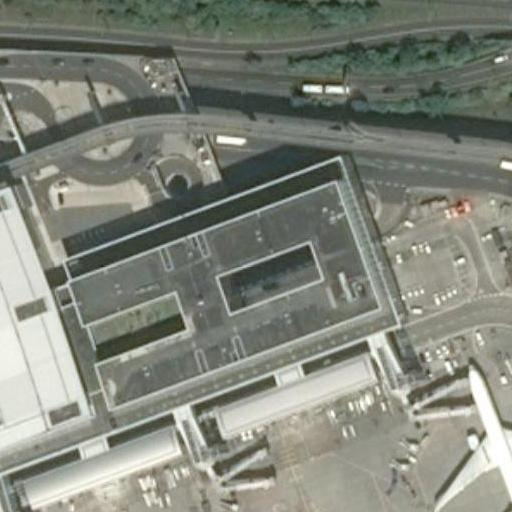Aircraft: (427, 357, 512, 512)
